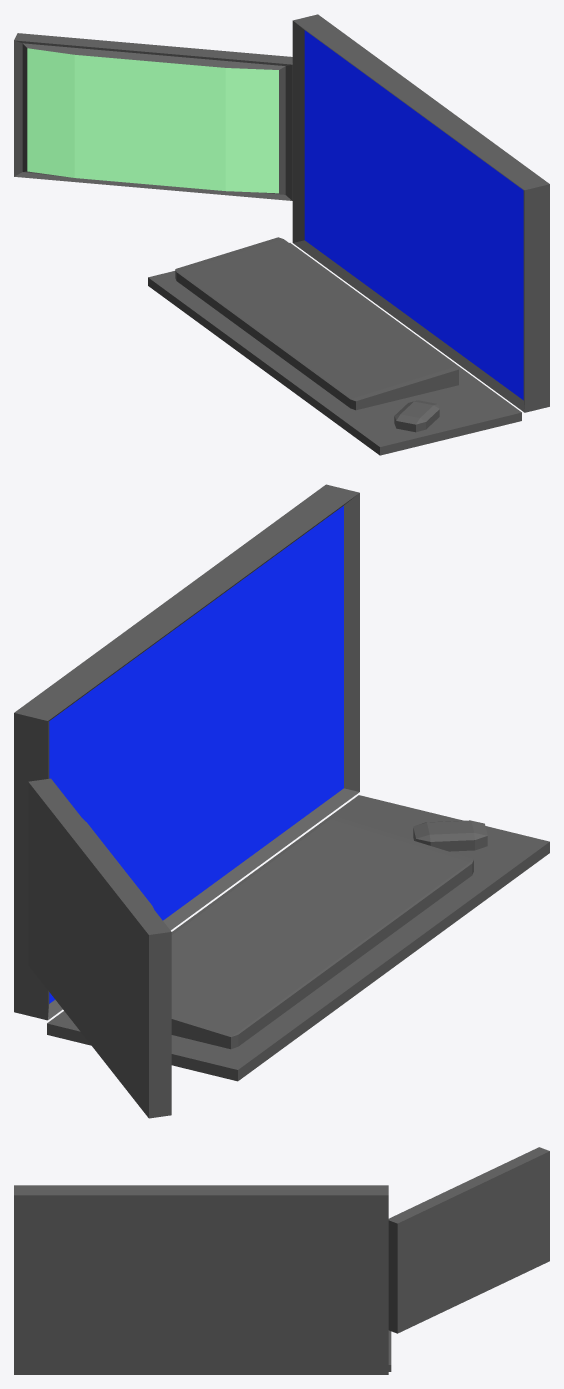
The model's file is computer.fbx.
3 renders of one model, top to bottom at view 1: azimuth 30°, elevation 25°; view 2: azimuth 150°, elevation 25°; view 3: azimuth 270°, elevation 25°, orthographic. The views are drawn at different scales.
Visible parts, largest first — view 1: Cube.002; view 2: Cube.002; view 3: Cube.002.
Part boxes in pixels (x1,y1,x2,y2): Cube.002: [14, 14, 549, 455]; Cube.002: [14, 484, 549, 1118]; Cube.002: [14, 1147, 549, 1374].
Bounding box in the file's own units: 46.24 × 48.62 × 126.
